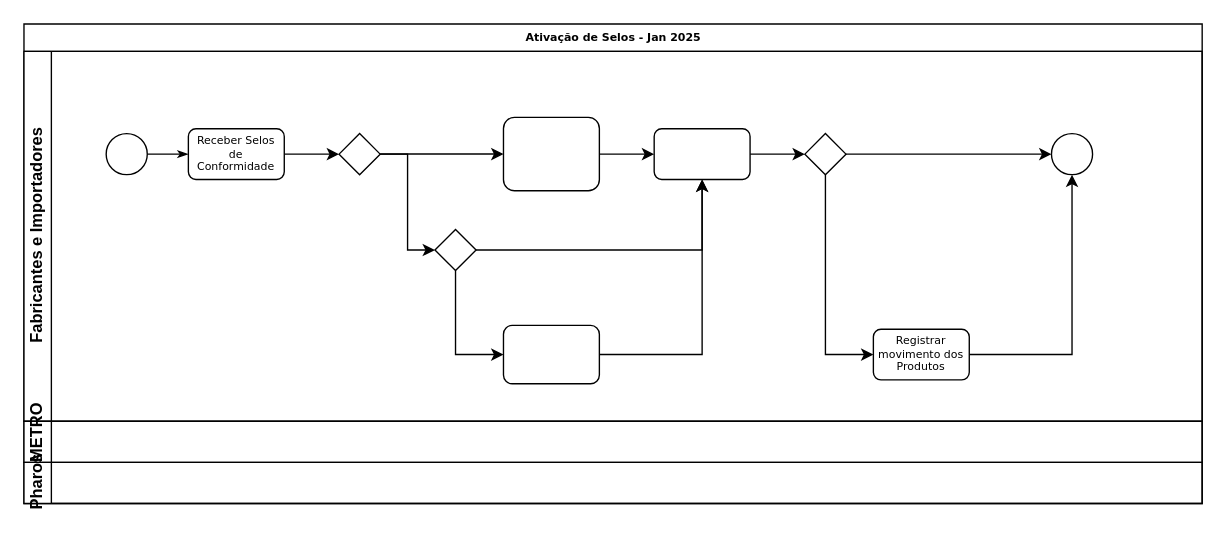
This 1226x534 diagram has some shape labels left out. The shapes that lost their labels are listed below. From the top down, each one's centre as x and y in pixels, then its label:
At [550,153]: "Ativar Selo de Conformidade de Serviço (por categoria)".
At [701,153]: "Aplicar Selos nos Produtos".
At [550,354]: "Ativar Selo de Conformidade de Produto (por categoria)".
